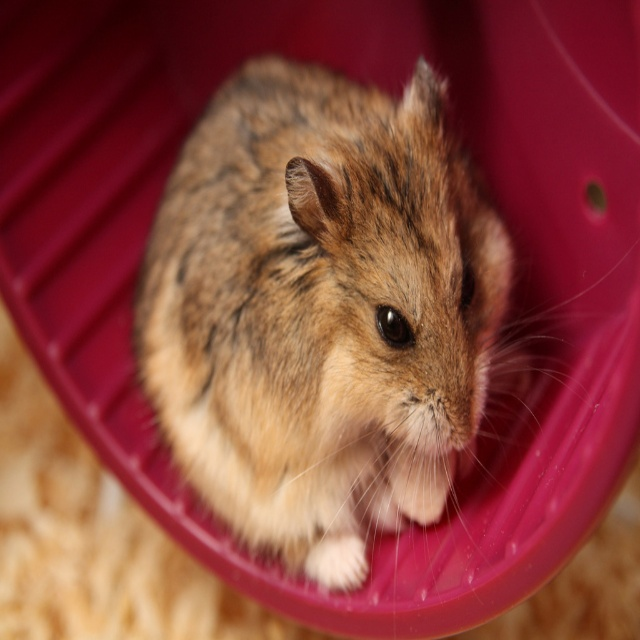Mouse: (154, 40, 512, 597)
